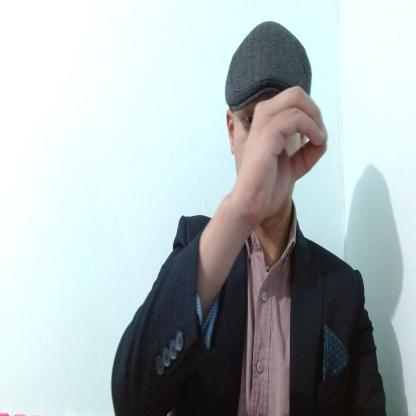O: (244, 82, 329, 215)
